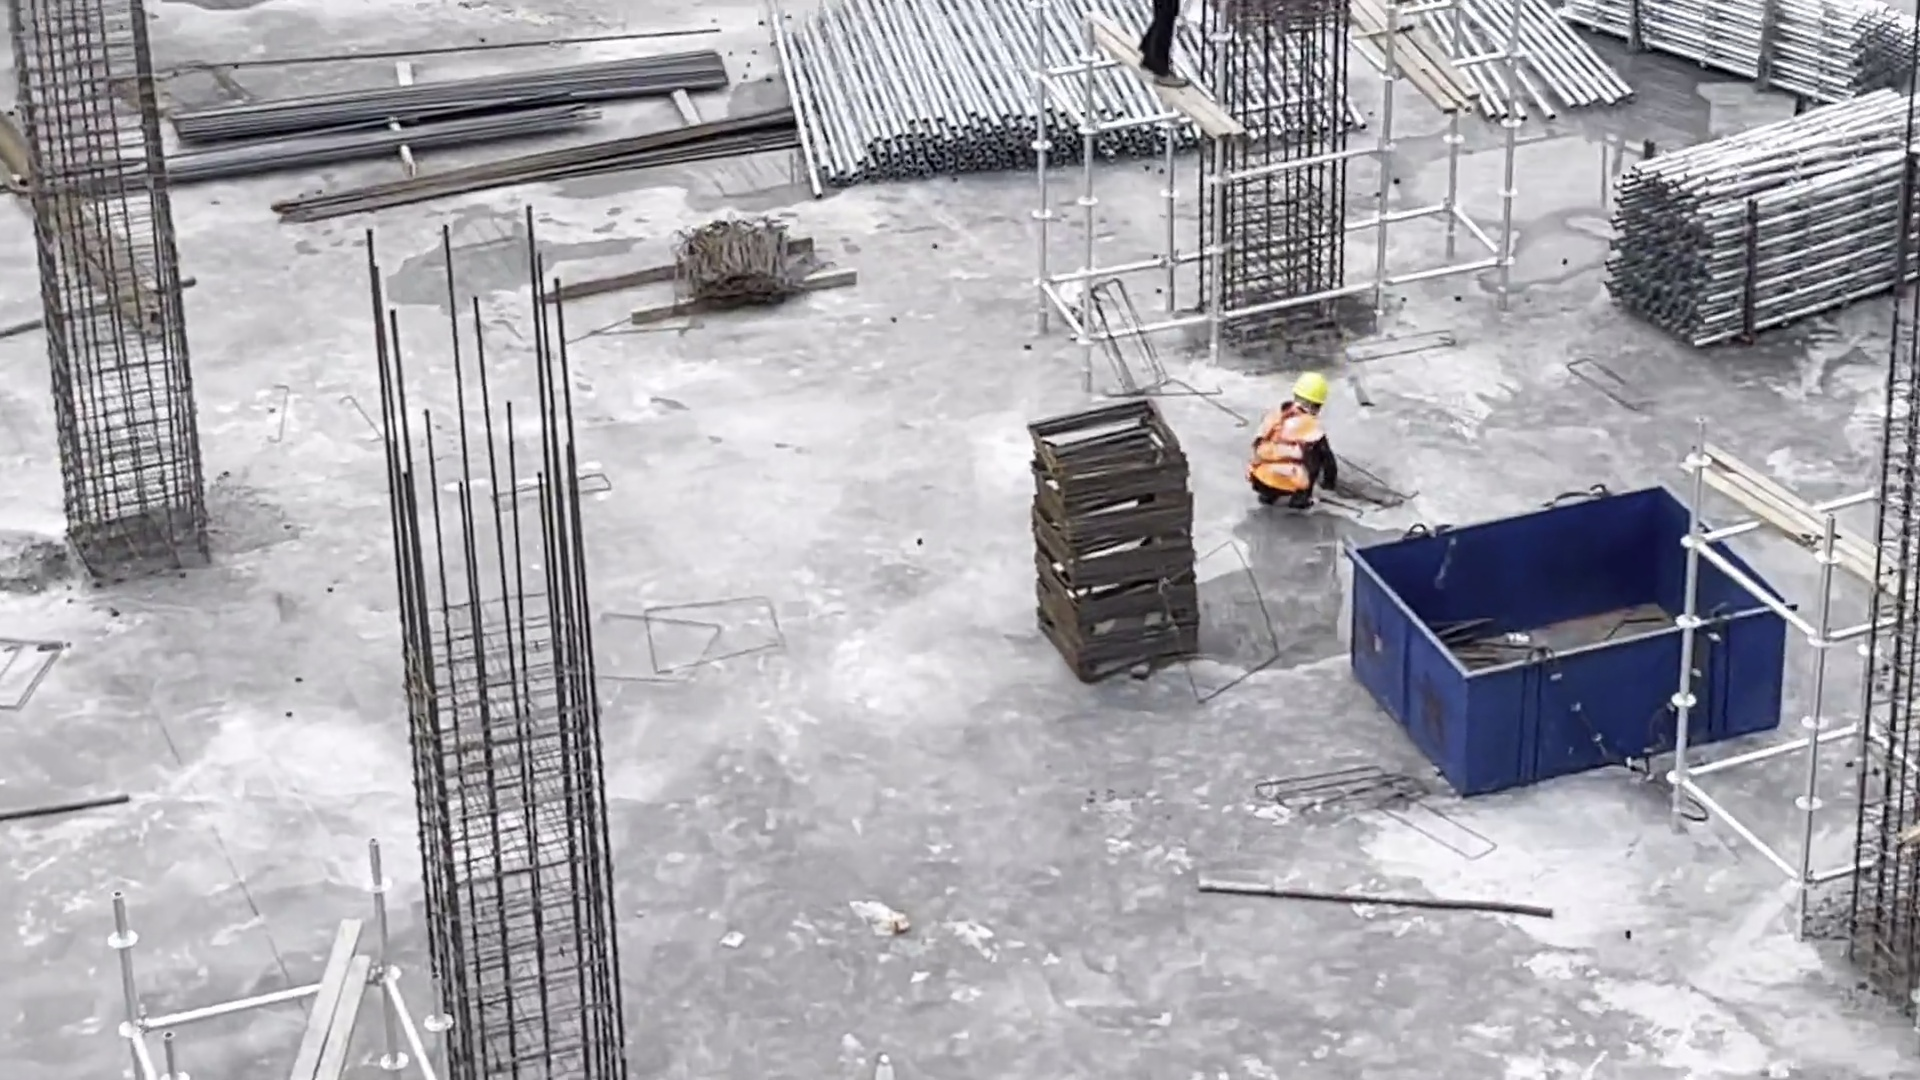helmet: (1295, 371, 1329, 406)
hopper: (1328, 480, 1790, 802)
person: (1240, 365, 1343, 513), (1131, 1, 1203, 93)
rebar: (280, 109, 806, 226), (45, 112, 585, 202), (178, 54, 728, 141)
scaffold: (797, 1, 1312, 194), (1599, 83, 1920, 345), (1518, 6, 1910, 79)
vest: (1252, 411, 1319, 496)
